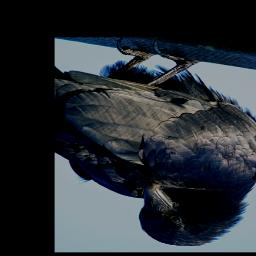Crow: (55, 39, 256, 247)
